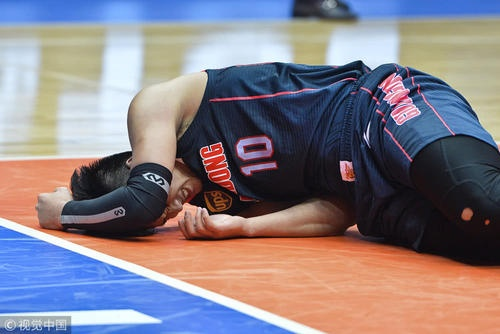falling: (47, 52, 490, 248)
